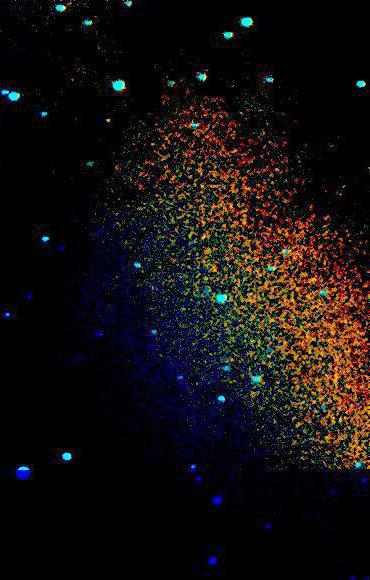star: (93, 104, 123, 134)
